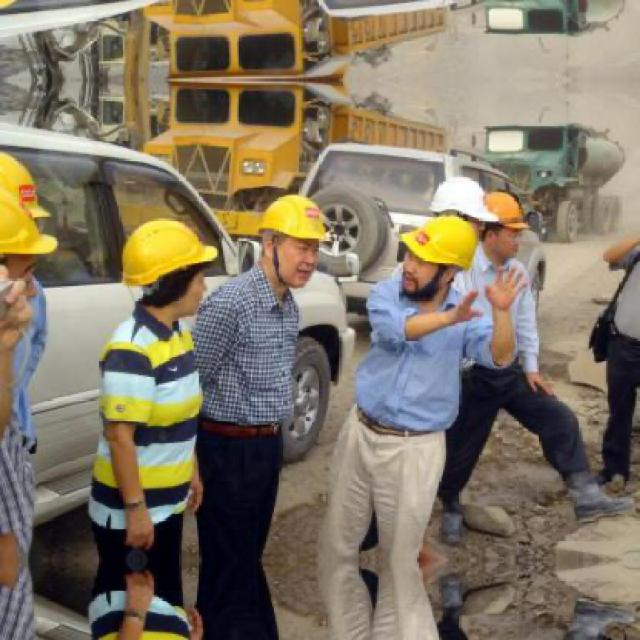helmet: (117, 214, 217, 315), (254, 188, 334, 289), (1, 185, 56, 328), (395, 212, 477, 290), (477, 188, 529, 263), (432, 177, 488, 231)
